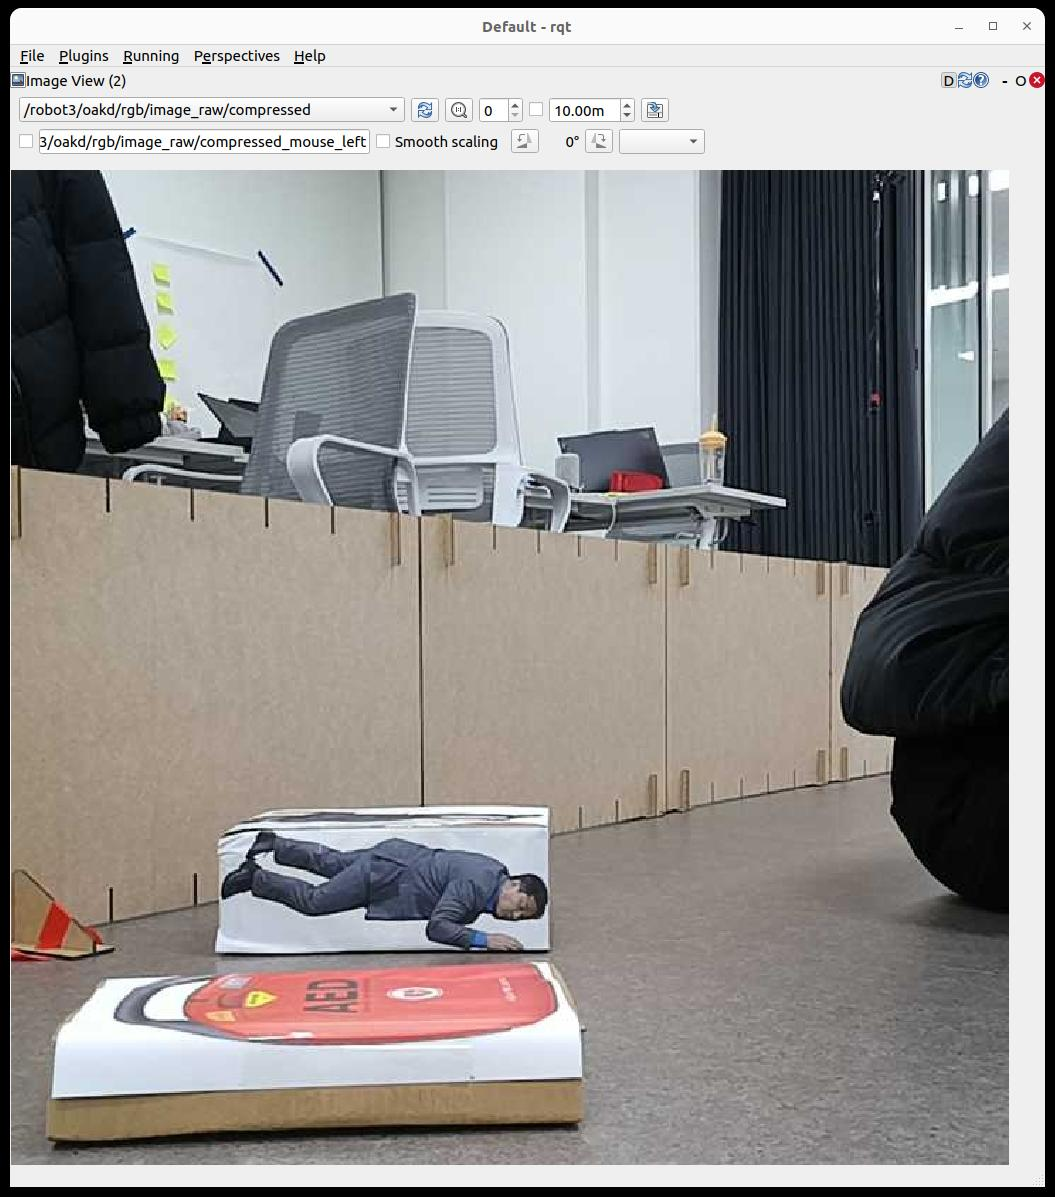AED: (47, 955, 584, 1140)
Patient: (222, 831, 547, 949)
